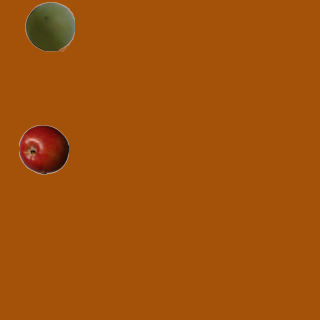Apple Braeburn: (18, 124, 68, 174)
Grape White 4: (24, 1, 74, 51)
